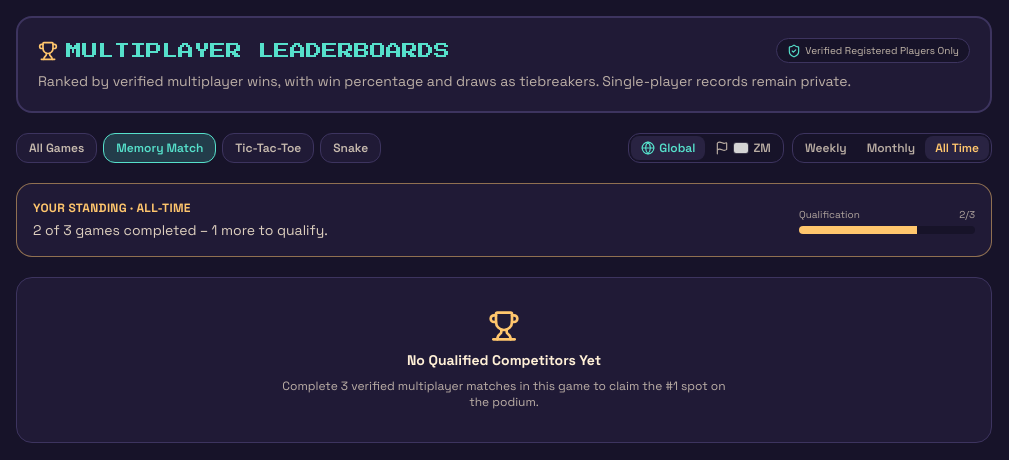
Security Hardening, Match Recording & 3-Match Leaderboard Qualification › 3-Match Per-Game Leaderboard Qualification & Filtering › never combines matches from different games in LeaderboardsView All Games tab
Step 1. Click the button with test id "leaderboard-game-all" → (57, 148), box [16, 133, 97, 163]
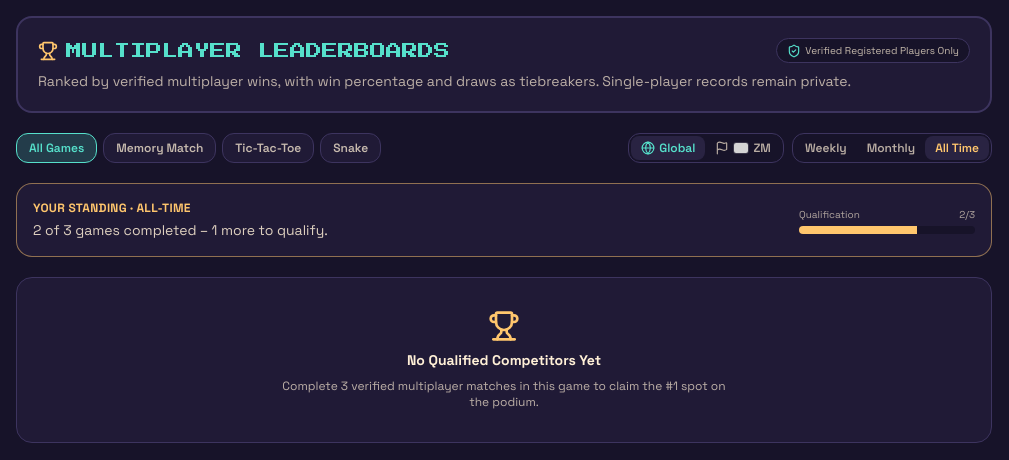
expect the element with test id "leaderboard-qualification-banner" shows "2 of 3 games completed – 1 more to qualify.": met, box [33, 221, 328, 239]
Step 2. Click the button with test id "leaderboard-game-snake" → (351, 148), box [320, 133, 381, 163]
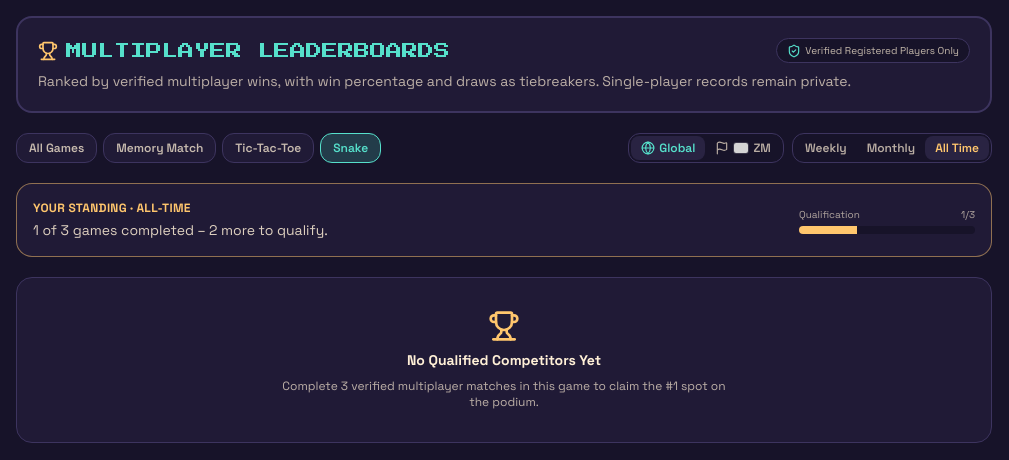
expect the element with test id "leaderboard-qualification-banner" shows "1 of 3 games completed – 2 more to qualify.": met, box [33, 221, 328, 239]
